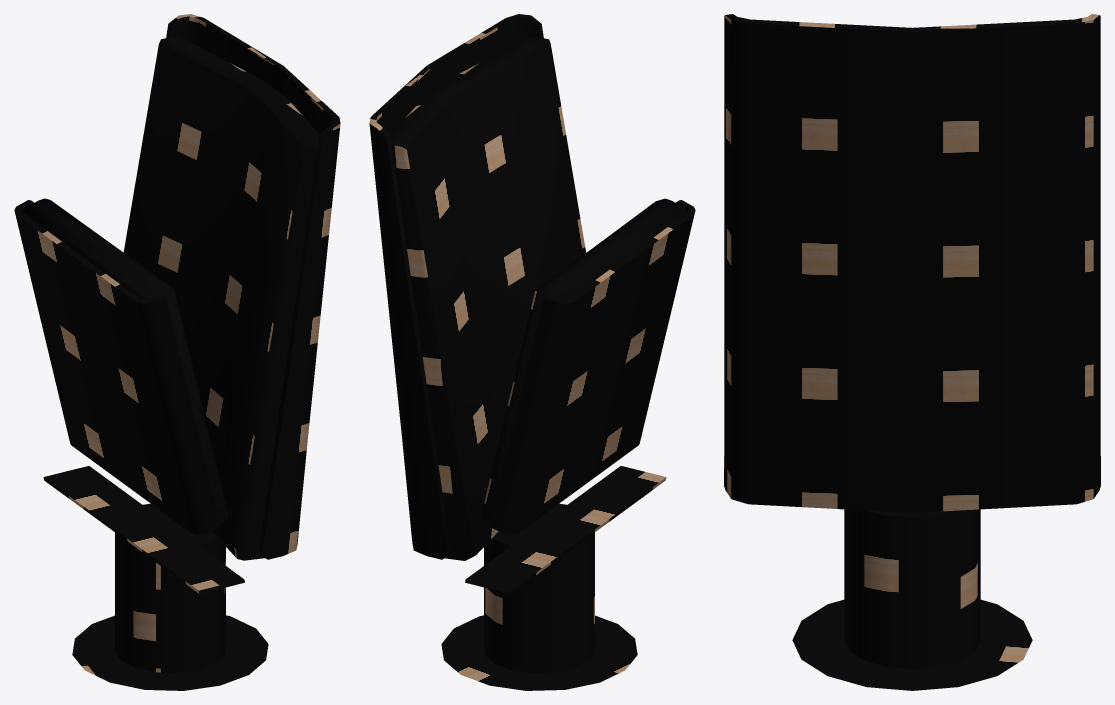
File: instanced-1-transformed.glb
3 renders of one model, left to right at view 1: azimuth 30°, elevation 25°; view 2: azimuth 150°, elevation 25°; view 3: azimuth 270°, elevation 25°, orthographic. The views are drawn at different scales.
Parts seen in each view (by area): view 1: Plane.043, Plane.044; view 2: Plane.043, Plane.044; view 3: Plane.044, Plane.043.
Part boxes in pixels (bbox=[...]): Plane.043: bbox=[23, 36, 319, 690]; Plane.044: bbox=[14, 14, 340, 559]; Plane.043: bbox=[390, 36, 686, 690]; Plane.044: bbox=[369, 14, 695, 559]; Plane.044: bbox=[724, 14, 1100, 512]; Plane.043: bbox=[724, 456, 1100, 690].
Bounding box in the file's own units: 0.3634 × 0.933 × 0.4704.
1 material, 1 textured.
